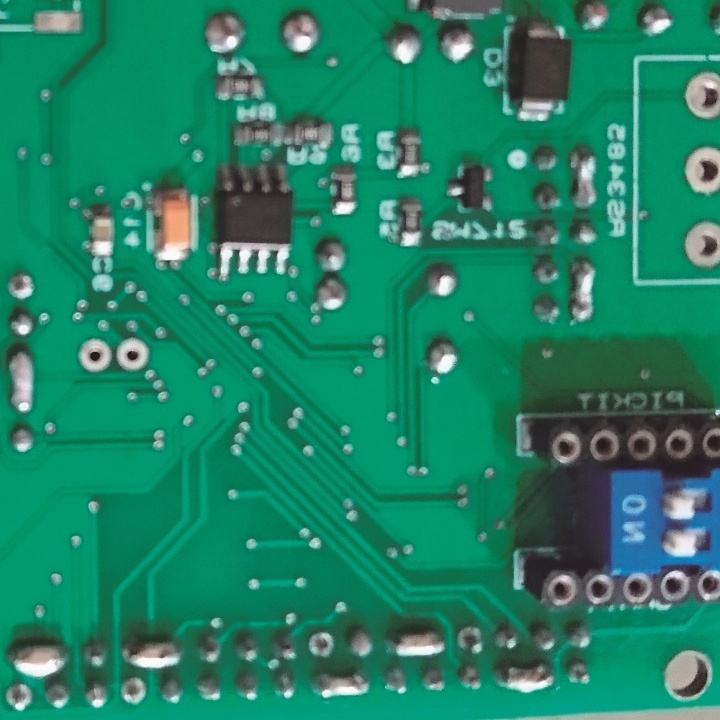F: (681, 219, 720, 269), (684, 68, 720, 121), (683, 144, 720, 195), (113, 337, 150, 372), (76, 338, 110, 373), (4, 680, 37, 712), (6, 272, 39, 303), (456, 623, 484, 658), (120, 676, 150, 708), (307, 630, 335, 658)
P: (8, 640, 74, 678), (6, 346, 38, 418), (493, 660, 556, 695), (386, 629, 449, 660), (121, 639, 184, 669), (570, 143, 596, 211), (313, 671, 370, 701), (570, 259, 595, 322)
